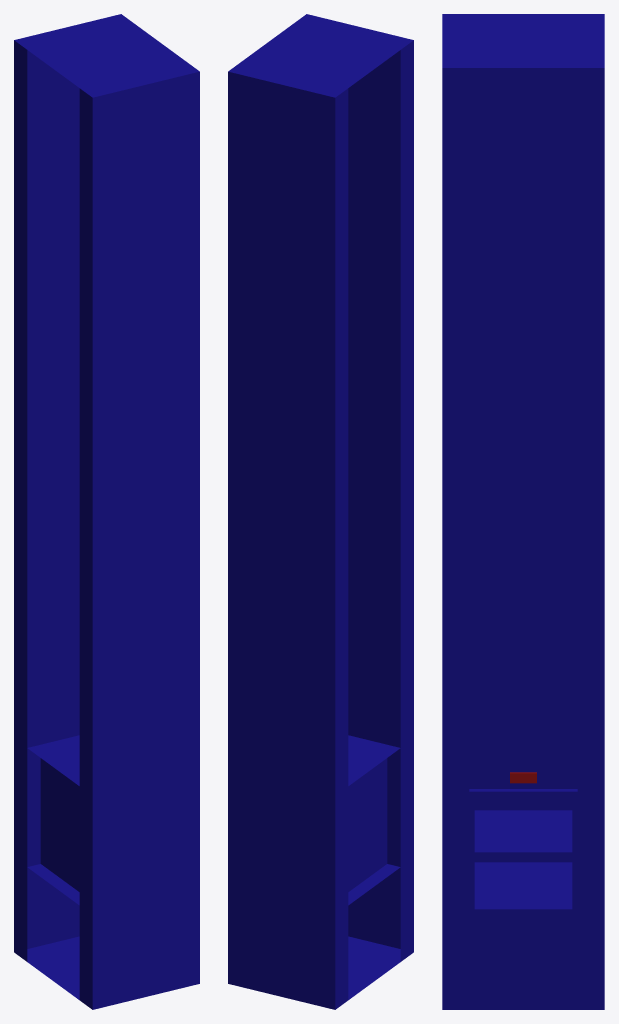
Rendered from SM_MonteCharge.FBX.
3 views of the same model, side by side, from view 1: azimuth 30°, elevation 25°; view 2: azimuth 150°, elevation 25°; view 3: azimuth 270°, elevation 25° (orthographic). The views are drawn at different scales.
Visible parts, largest first — view 1: SM_MonteCharge; view 2: SM_MonteCharge; view 3: SM_MonteCharge.
Boxes of the visible parts, x1,y1,x2,y2 form: SM_MonteCharge: (14,14,199,1009); SM_MonteCharge: (228,14,413,1009); SM_MonteCharge: (442,14,604,1009).
Size of the model in its own units: 98.57 by 767 by 120.
